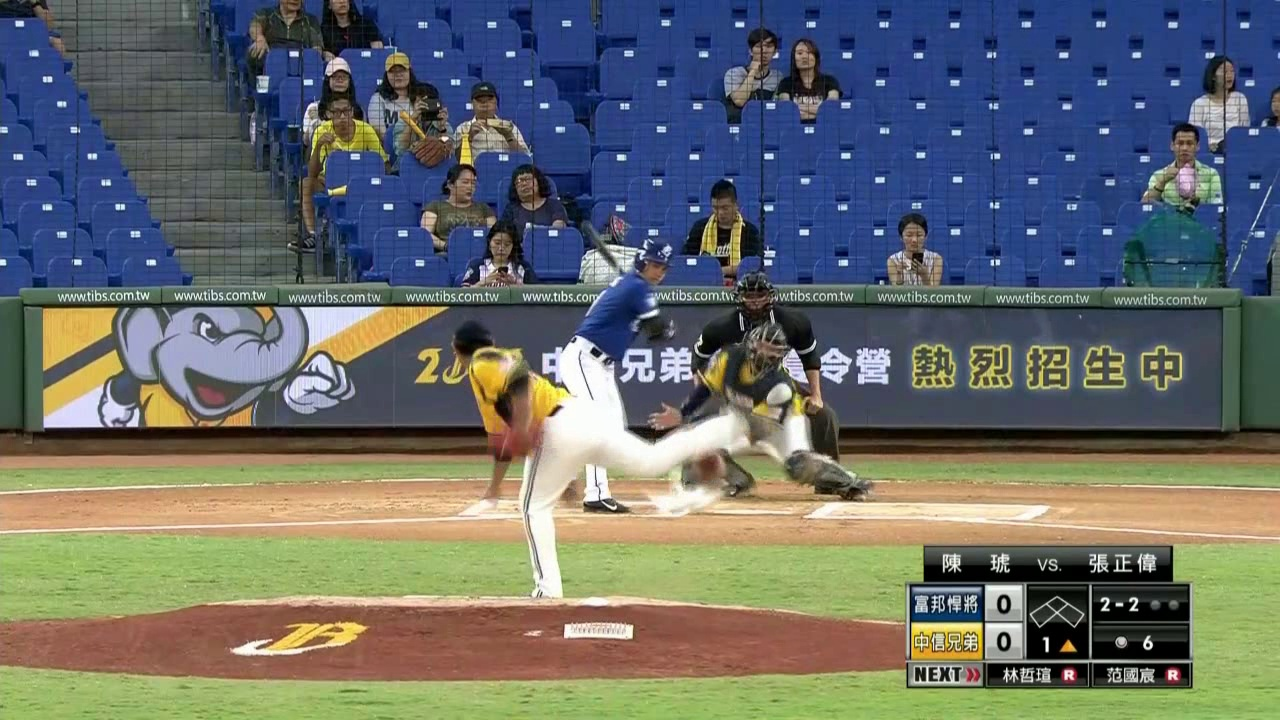ball: (670, 470, 680, 481)
bat: (567, 200, 625, 275)
bse: (1029, 590, 1083, 632)
out: (1144, 587, 1184, 619)
score1: (987, 593, 1022, 616)
score2: (989, 627, 1022, 656)
session: (1029, 637, 1081, 659)
strikeball: (1094, 590, 1147, 617)
total: (1105, 631, 1160, 655)
